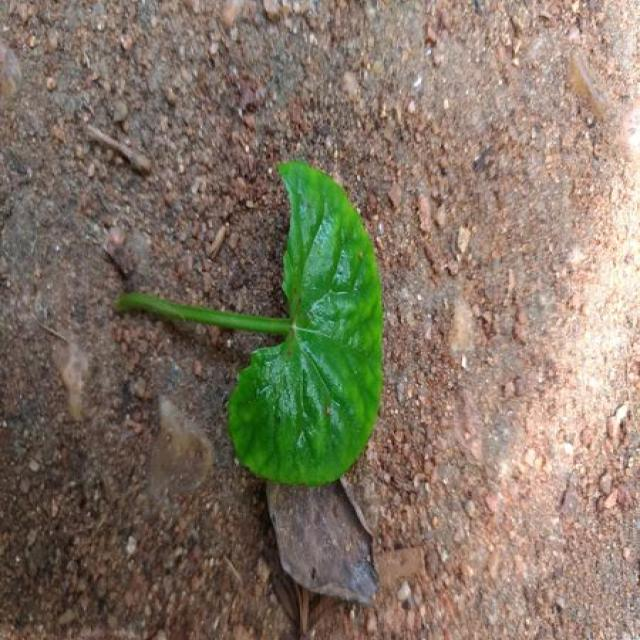bhrami: (228, 161, 382, 486)
